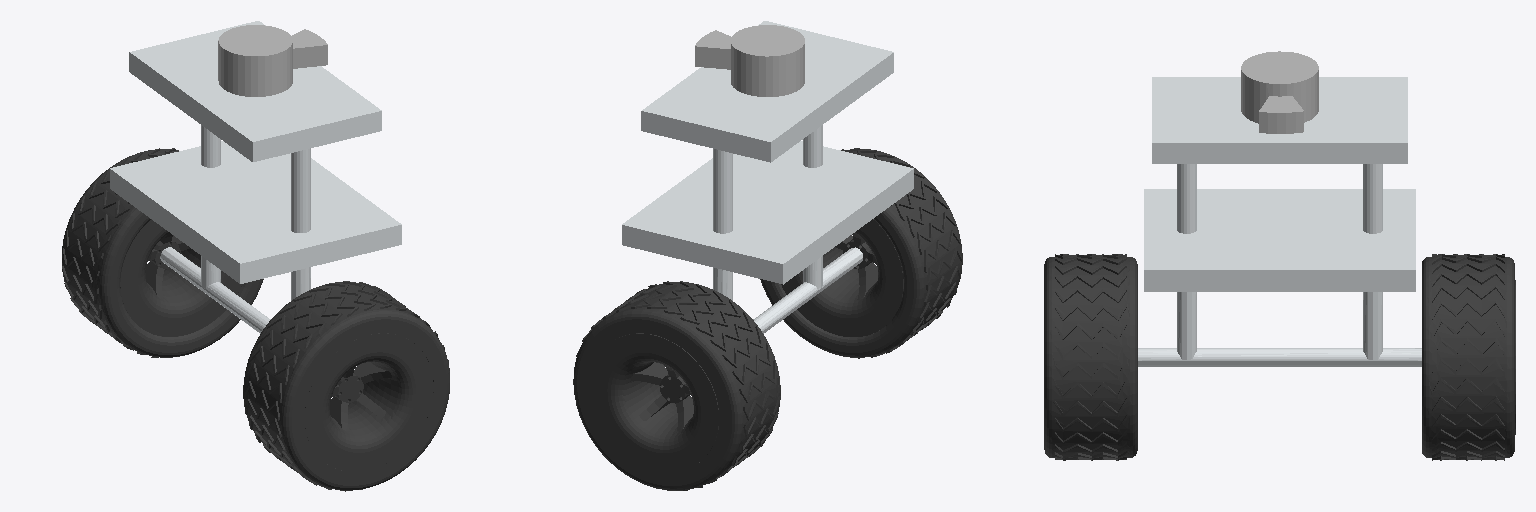
URDF robot description (urdf_assem_final):
<?xml version="1.0" encoding="utf-8"?>
<!-- This URDF was automatically created by SolidWorks to URDF Exporter! Originally created by [author] ([email redacted]) 
     Commit Version: 1.6.0-1-g15f4949  Build Version: 1.6.7594.29634
     For more information, please see http://wiki.ros.org/sw_urdf_exporter -->
<robot
  name="urdf_assem_final">
  <link
    name="base_link">
    <inertial>
      <origin
        xyz="-1.55905843790549E-09 8.35996216697055E-10 0.227427844138389"
        rpy="0 0 0" />
      <mass
        value="13.4118986785811" />
      <inertia
        ixx="0.138795528767983"
        ixy="6.1031384950179E-09"
        ixz="-2.54609804268592E-10"
        iyy="0.057261428895309"
        iyz="5.70138502164683E-10"
        izz="0.191099141268272" />
    </inertial>
    <visual>
      <origin
        xyz="0 0 0"
        rpy="0 0 0" />
      <geometry>
        <mesh
          filename="package://urdf_assem_final/meshes/base_link.STL" />
      </geometry>
      <material
        name="">
        <color
          rgba="0.898039215686275 0.917647058823529 0.929411764705882 1" />
      </material>
    </visual>
    <collision>
      <origin
        xyz="0 0 0"
        rpy="0 0 0" />
      <geometry>
        <mesh
          filename="package://urdf_assem_final/meshes/base_link.STL" />
      </geometry>
    </collision>
  </link>
  <link
    name="wheel_l_link">
    <inertial>
      <origin
        xyz="2.2384368820183E-06 -0.00167135697643017 1.60704017726498E-06"
        rpy="0 0 0" />
      <mass
        value="4.80902409600041" />
      <inertia
        ixx="0.0226570934119946"
        ixy="-8.36535029894673E-08"
        ixz="-3.53132034618592E-09"
        iyy="0.0333153287221764"
        iyz="-5.9900188467449E-08"
        izz="0.0226570945548089" />
    </inertial>
    <visual>
      <origin
        xyz="0 0 0"
        rpy="0 0 0" />
      <geometry>
        <mesh
          filename="package://urdf_assem_final/meshes/wheel_l_link.STL" />
      </geometry>
      <material
        name="">
        <color
          rgba="0.298039215686275 0.298039215686275 0.298039215686275 1" />
      </material>
    </visual>
    <collision>
      <origin
        xyz="0 0 0"
        rpy="0 0 0" />
      <geometry>
        <mesh
          filename="package://urdf_assem_final/meshes/wheel_l_link.STL" />
      </geometry>
    </collision>
  </link>
  <joint
    name="l_joint"
    type="continuous">
    <origin
      xyz="0 -0.24448 0.00035754"
      rpy="0 0.16066 0" />
    <parent
      link="base_link" />
    <child
      link="wheel_l_link" />
    <axis
      xyz="0 -1 0" />
  </joint>
  <link
    name="wheel_r_Link">
    <inertial>
      <origin
        xyz="-2.7412767007462E-06 0.00244295553961049 2.80321530321537E-07"
        rpy="0 0 0" />
      <mass
        value="4.80902409600043" />
      <inertia
        ixx="0.0226570906467723"
        ixy="-1.02367159462644E-07"
        ixz="1.28981896897648E-09"
        iyy="0.0333153287221767"
        iyz="1.03396899017987E-08"
        izz="0.0226570973200315" />
    </inertial>
    <visual>
      <origin
        xyz="0 0 0"
        rpy="0 0 0" />
      <geometry>
        <mesh
          filename="package://urdf_assem_final/meshes/wheel_r_Link.STL" />
      </geometry>
      <material
        name="">
        <color
          rgba="0.298039215686275 0.298039215686275 0.298039215686275 1" />
      </material>
    </visual>
    <collision>
      <origin
        xyz="0 0 0"
        rpy="0 0 0" />
      <geometry>
        <mesh
          filename="package://urdf_assem_final/meshes/wheel_r_Link.STL" />
      </geometry>
    </collision>
  </link>
  <joint
    name="r_joint"
    type="continuous">
    <origin
      xyz="0 0.24348 0.00035754"
      rpy="0 0.16066 0" />
    <parent
      link="base_link" />
    <child
      link="wheel_r_Link" />
    <axis
      xyz="0 1 0" />
  </joint>
  <link
    name="lidar_real_Link">
    <inertial>
      <origin
        xyz="0.0119831298968675 0.000257383050308535 0.00148462283570416"
        rpy="0 0 0" />
      <mass
        value="1.45459502470387" />
      <inertia
        ixx="0.00125076189791548"
        ixy="-1.98466416096909E-05"
        ixz="-0.000186492107347762"
        iyy="0.00216267675002536"
        iyz="-2.53727203492436E-06"
        izz="0.00257032328598136" />
    </inertial>
    <visual>
      <origin
        xyz="0 0 0"
        rpy="0 0 0" />
      <geometry>
        <mesh
          filename="package://urdf_assem_final/meshes/lidar_real_Link.STL" />
      </geometry>
      <material
        name="">
        <color
          rgba="0.752941176470588 0.752941176470588 0.752941176470588 1" />
      </material>
    </visual>
    <collision>
      <origin
        xyz="0 0 0"
        rpy="0 0 0" />
      <geometry>
        <mesh
          filename="package://urdf_assem_final/meshes/lidar_real_Link.STL" />
      </geometry>
    </collision>
  </link>
  <joint
    name="lidar_joint"
    type="continuous">
    <origin
      xyz="-0.002469 -5.2666E-05 0.38249"
      rpy="0 0.16066 0" />
    <parent
      link="base_link" />
    <child
      link="lidar_real_Link" />
    <axis
      xyz="-0.15997 0 0.98712" />
  </joint>
</robot>

--- Render facts (derived) ---
3 views of the same robot in one strip: view 1: azimuth 30°, elevation 25°; view 2: azimuth 150°, elevation 25°; view 3: azimuth 270°, elevation 25° (orthographic).
Robot: urdf_assem_final — 4 links, 3 joints (3 continuous); root link base_link; default pose: every joint at zero.
Visible links, largest first — view 1: base_link, wheel_l_link, wheel_r_Link, lidar_real_Link; view 2: base_link, wheel_r_Link, wheel_l_link, lidar_real_Link; view 3: base_link, wheel_l_link, wheel_r_Link, lidar_real_Link.
Link boxes in pixels (x1=…): base_link: x1=110, y1=21, x2=401, y2=333; wheel_l_link: x1=243, y1=281, x2=449, y2=491; wheel_r_Link: x1=62, y1=148, x2=263, y2=357; lidar_real_Link: x1=218, y1=25, x2=327, y2=96; base_link: x1=622, y1=21, x2=913, y2=333; wheel_r_Link: x1=573, y1=281, x2=780, y2=490; wheel_l_link: x1=760, y1=148, x2=962, y2=358; lidar_real_Link: x1=695, y1=25, x2=804, y2=96; base_link: x1=1138, y1=77, x2=1421, y2=366; wheel_l_link: x1=1044, y1=254, x2=1137, y2=460; wheel_r_Link: x1=1422, y1=254, x2=1515, y2=460; lidar_real_Link: x1=1241, y1=51, x2=1318, y2=133.
Size in the robot's own frame: 0.266 by 0.6074 by 0.545 metres.
Meshes: 4 distinct files referenced, 4 mesh visuals loaded (4 binary STL).